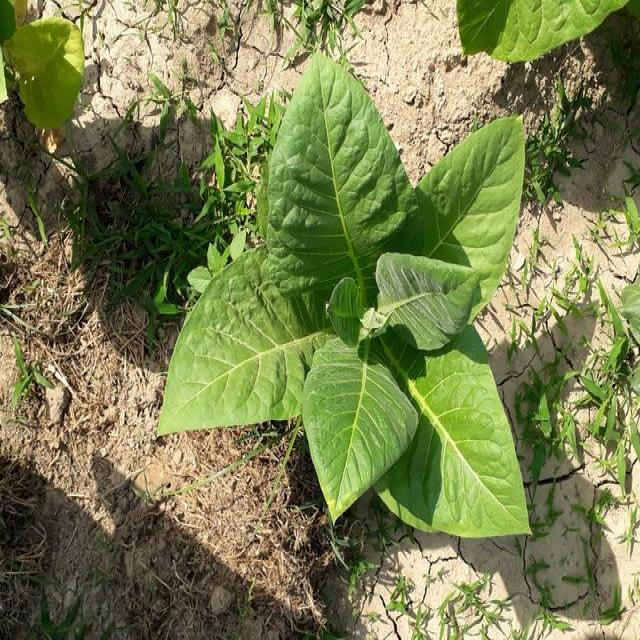crop: (153, 65, 528, 538), (0, 0, 89, 131), (462, 0, 632, 67)
